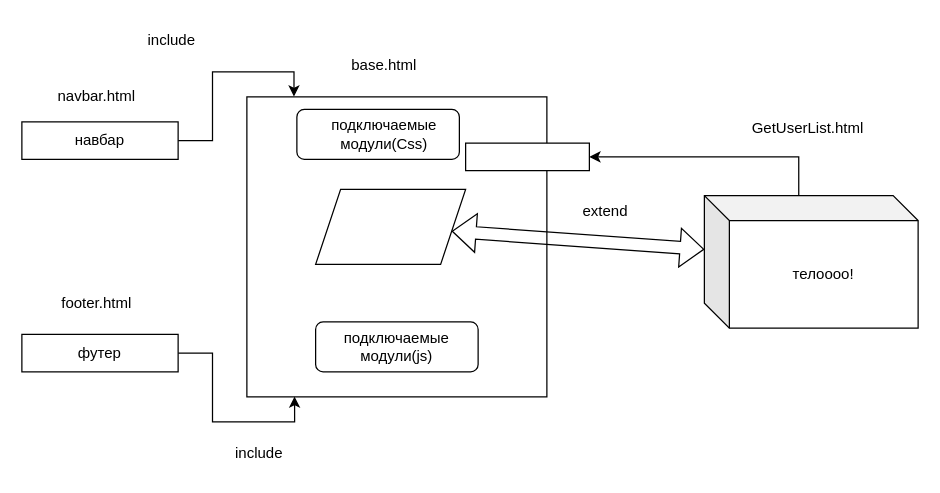
The diagram is 940 pixels wide and 493 high, and some of its shapes have lost their labels. The shapes that lost their labels are listed below. From the top down, each one's box as (x1, y1, x2, y2) in pixels, then its label:
(464, 142, 589, 171): title
(314, 188, 466, 264): block main
